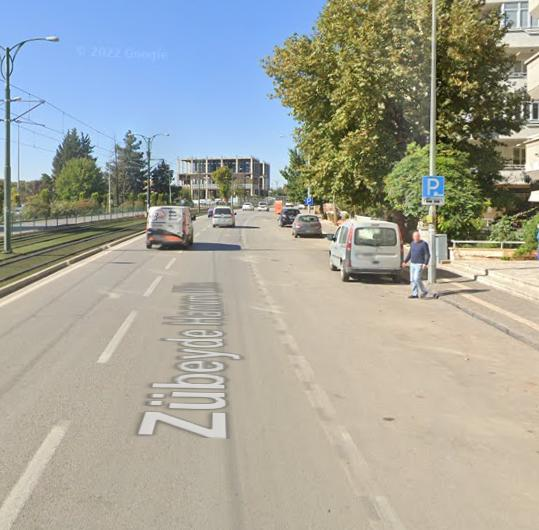park: (422, 177, 445, 197), (306, 196, 312, 205)
